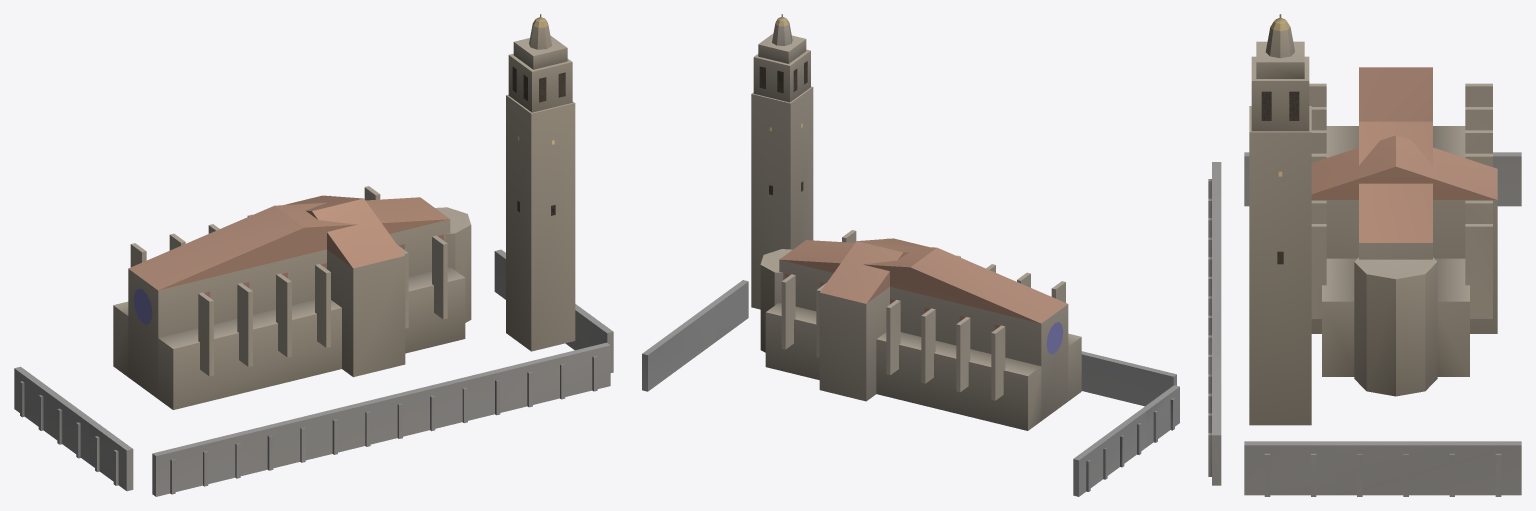
File: cathedral.glb
3 views of the same model, side by side, from view 1: azimuth 30°, elevation 25°; view 2: azimuth 150°, elevation 25°; view 3: azimuth 270°, elevation 25° (orthographic). The views are drawn at different scales.
Visible parts, largest first — view 1: mass_cathedral.001, mass_belltower.001, mass_terrace_wall_40.021, mass_terrace_wall_40.024, mass_terrace_wall_40.022, mass_terrace_wall_40.027, mass_terrace_wall_40.023, mass_terrace_wall_40.025, mass_terrace_wall_40.026; view 2: mass_cathedral.001, mass_belltower.001, mass_terrace_wall_40.021, mass_terrace_wall_40.027, mass_terrace_wall_40.028, mass_terrace_wall_40.025, mass_terrace_wall_40.026; view 3: mass_cathedral.001, mass_belltower.001, mass_terrace_wall_40.028, mass_terrace_wall_40.026, mass_terrace_wall_40.024, mass_terrace_wall_40.027, mass_terrace_wall_40.022, mass_terrace_wall_40.021, mass_terrace_wall_40.023.
Boxes of the visible parts, x1,y1,x2,y2 form: mass_cathedral.001: (113,186,471,409); mass_belltower.001: (506,14,575,351); mass_terrace_wall_40.021: (152,422,285,496); mass_terrace_wall_40.024: (477,342,610,417); mass_terrace_wall_40.022: (282,390,415,465); mass_terrace_wall_40.027: (14,366,95,463); mass_terrace_wall_40.023: (412,374,480,433); mass_terrace_wall_40.025: (89,421,133,491); mass_terrace_wall_40.026: (569,304,613,372); mass_cathedral.001: (760,230,1081,430); mass_belltower.001: (751,14,813,309); mass_terrace_wall_40.021: (1081,351,1176,406); mass_terrace_wall_40.027: (1073,410,1146,496); mass_terrace_wall_40.028: (642,304,715,391); mass_terrace_wall_40.025: (1141,385,1179,447); mass_terrace_wall_40.026: (709,280,748,341); mass_cathedral.001: (1309,67,1497,396); mass_belltower.001: (1249,14,1311,425); mass_terrace_wall_40.028: (1336,441,1521,496); mass_terrace_wall_40.026: (1244,441,1336,496); mass_terrace_wall_40.024: (1208,357,1221,485); mass_terrace_wall_40.027: (1493,152,1521,206); mass_terrace_wall_40.022: (1208,240,1221,335); mass_terrace_wall_40.021: (1208,162,1221,256); mass_terrace_wall_40.023: (1208,318,1221,374).
Size of the model in its own units: 152 by 106 by 67.8.
